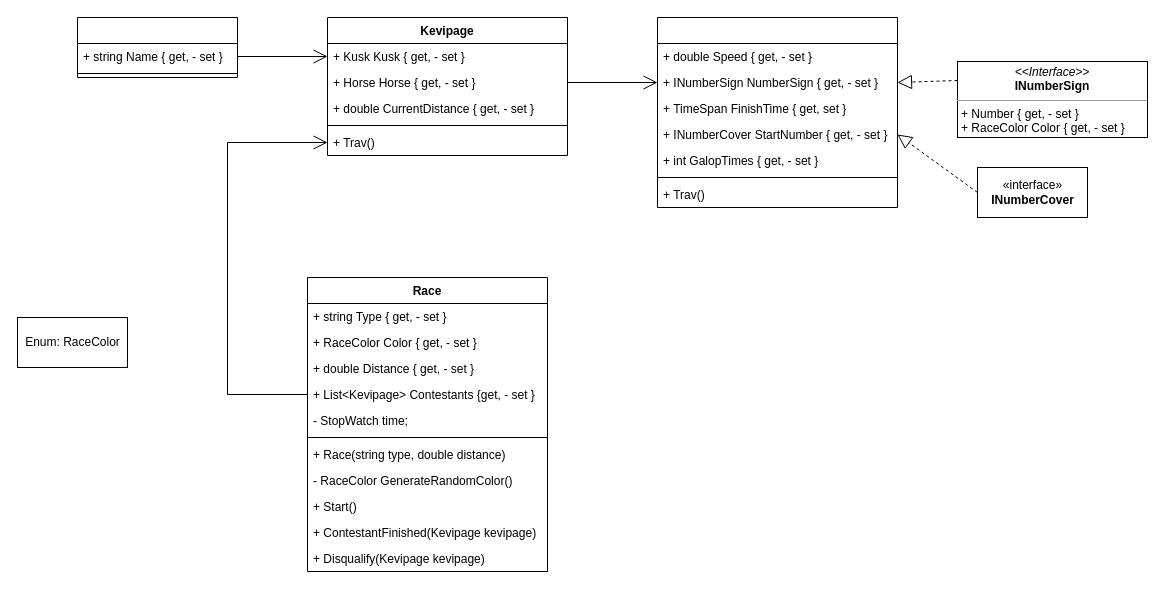
Some shapes in this 1165 by 592 pixel diagram are drawn without their labels. The shapes that lost their labels are listed below. From the top down, each one's box as (x1, y1, x2, y2) in pixels, then its label:
(76, 16, 238, 78): Kusk
(656, 16, 898, 208): Horse
